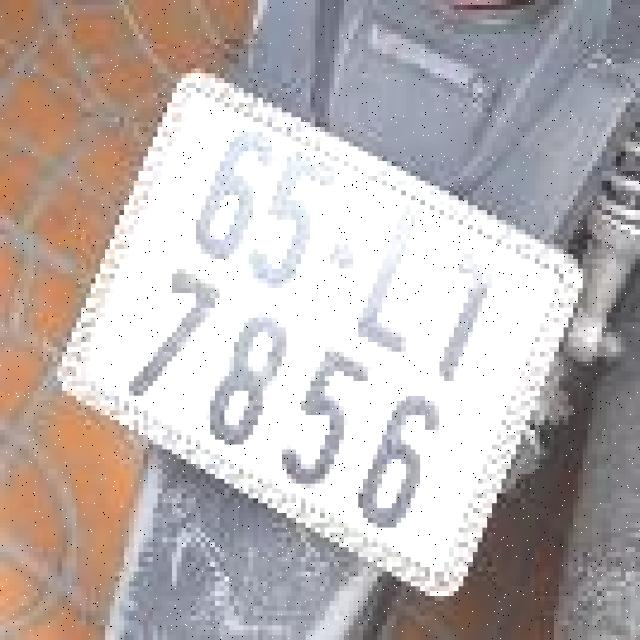1: (414, 228, 520, 393)
5: (237, 138, 352, 300), (266, 335, 377, 501)
6: (179, 112, 292, 275), (347, 376, 455, 539)
7: (114, 255, 234, 414)
8: (195, 295, 305, 461)
L: (347, 192, 457, 369)
